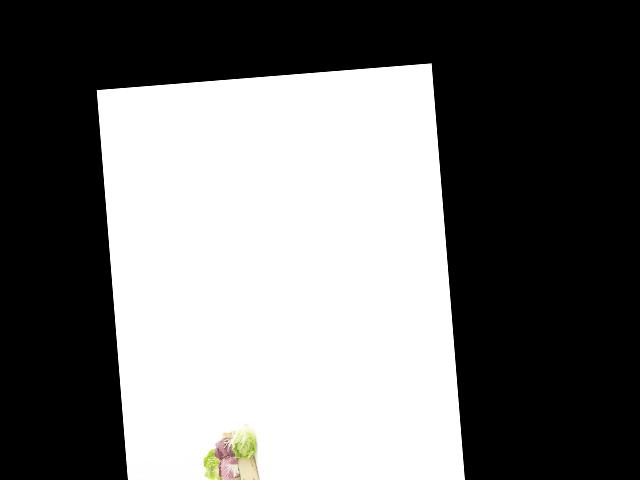lettuce: (202, 448, 225, 480)
